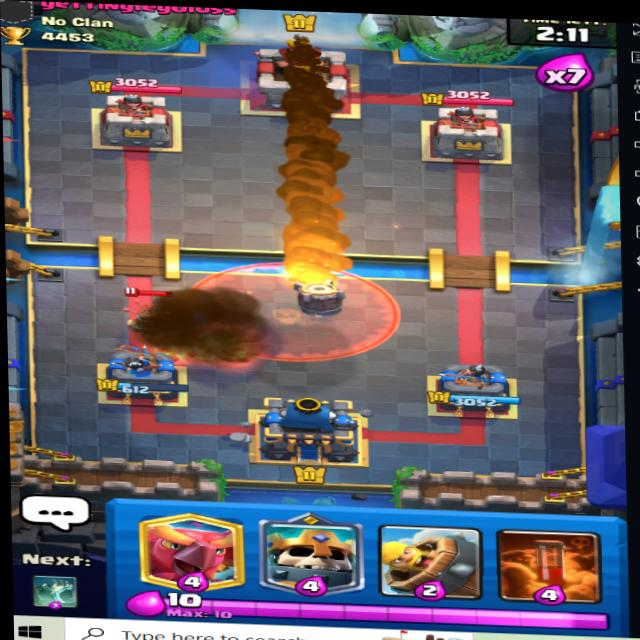poison: (197, 253, 394, 366)
rocket: (293, 265, 352, 322)
royal-recruits: (123, 290, 181, 345)
